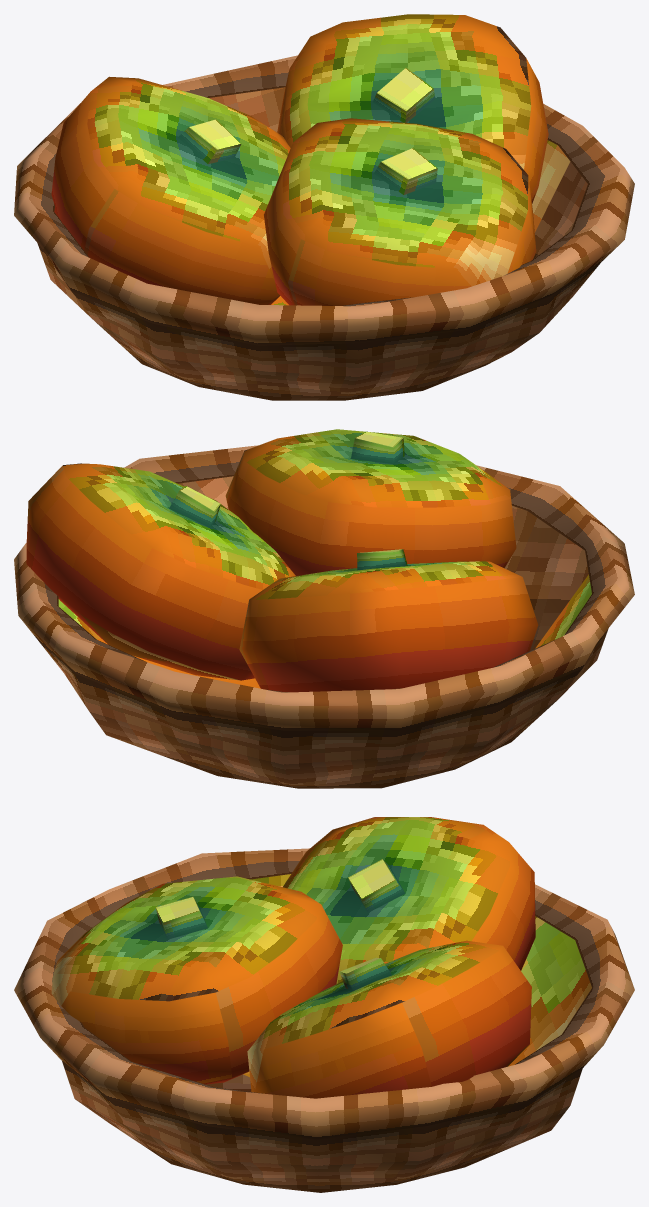
File: int_fru_persimmon.dae
3 renders of one model, top to bottom at view 1: azimuth 30°, elevation 25°; view 2: azimuth 150°, elevation 25°; view 3: azimuth 270°, elevation 25°, orthographic.
Visible parts, largest first — view 1: int_fru_persimmon; view 2: int_fru_persimmon; view 3: int_fru_persimmon.
Boxes of the visible parts, bbox=[...] form: int_fru_persimmon: bbox=[14, 14, 634, 400]; int_fru_persimmon: bbox=[14, 429, 634, 788]; int_fru_persimmon: bbox=[14, 817, 634, 1192].
Bounding box in the file's own units: 28.3 × 10.79 × 28.27.
1 material, 1 textured.
